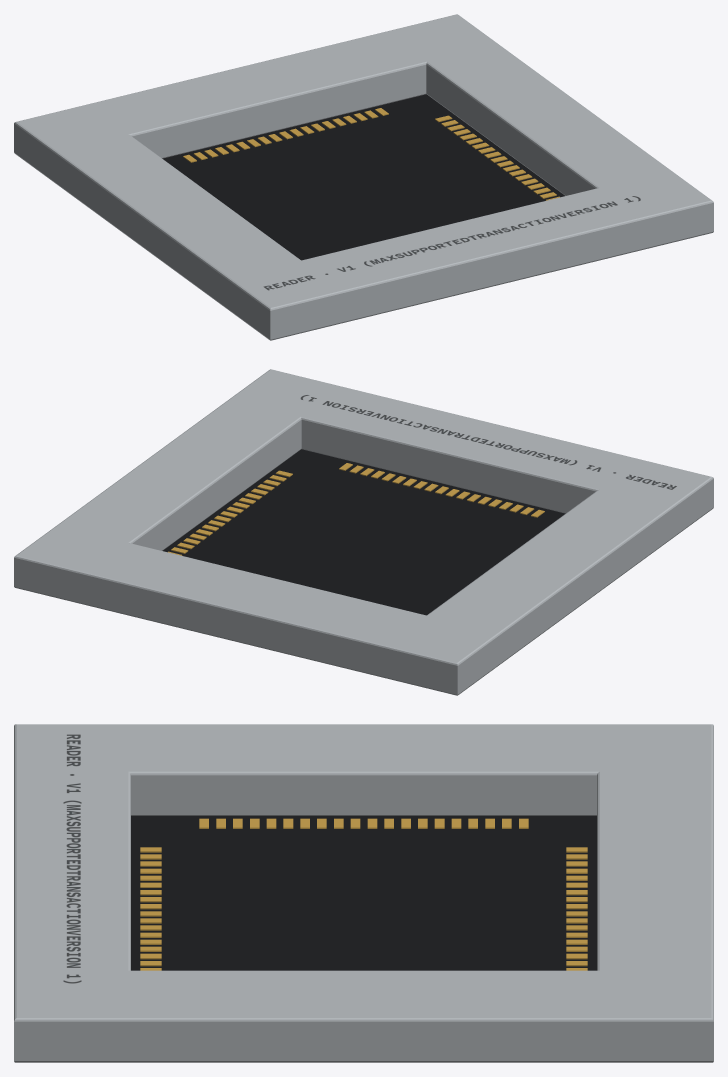
The model's file is ox81-socket-v1.glb.
3 renders of one model, top to bottom at view 1: azimuth 30°, elevation 25°; view 2: azimuth 150°, elevation 25°; view 3: azimuth 270°, elevation 25°, orthographic. The views are drawn at different scales.
Parts seen in each view (by area): view 1: object 1, object 2, contacts, object 3; view 2: object 1, object 2, contacts, object 3; view 3: object 1, object 2, contacts, object 3.
Part boxes in pixels (bbox=[...]): object 1: bbox=[14, 14, 713, 340]; object 2: bbox=[162, 94, 564, 260]; contacts: bbox=[183, 108, 559, 200]; object 3: bbox=[263, 196, 640, 290]; object 1: bbox=[14, 369, 713, 695]; object 2: bbox=[163, 449, 565, 615]; contacts: bbox=[168, 463, 544, 555]; object 3: bbox=[300, 395, 676, 489]; object 1: bbox=[14, 724, 713, 1062]; object 2: bbox=[131, 816, 596, 970]; contacts: bbox=[140, 818, 587, 970]; object 3: bbox=[63, 734, 81, 983].
Bounding box in the file's own units: 20.08 × 1.98 × 20.08.
4 materials, 1 textured.
